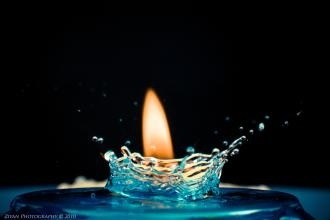fire: (141, 84, 174, 157)
